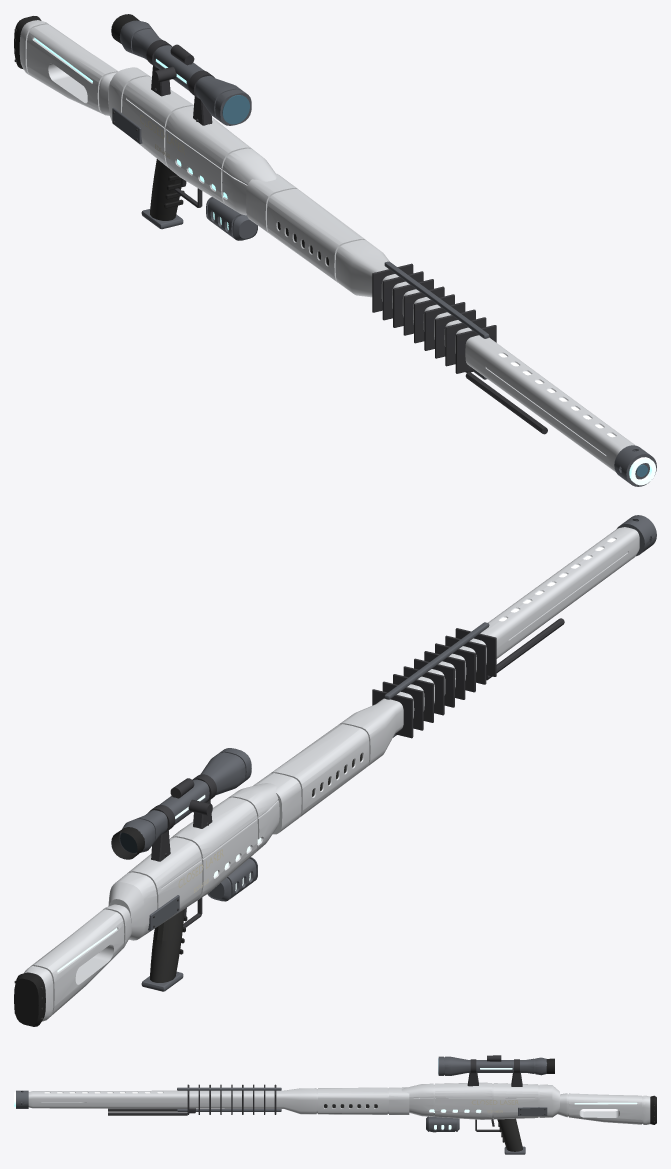
File: closedlaser.glb
The picture shows the model from 3 angles, top to bottom: view 1: azimuth 30°, elevation 25°; view 2: azimuth 150°, elevation 25°; view 3: azimuth 270°, elevation 25°; orthographic projection. The views are drawn at different scales.
Visible parts, largest first — view 1: Body; view 2: Body; view 3: Body, Body_marks.
Part boxes in pixels (<box>): Body: <box>14,14,656,486</box>; Body: <box>14,515,656,1026</box>; Body: <box>14,1055,656,1154</box>; Body_marks: <box>471,1100,518,1112</box>.
Size of the model in its own units: 0.0694 by 0.2546 by 1.54.
